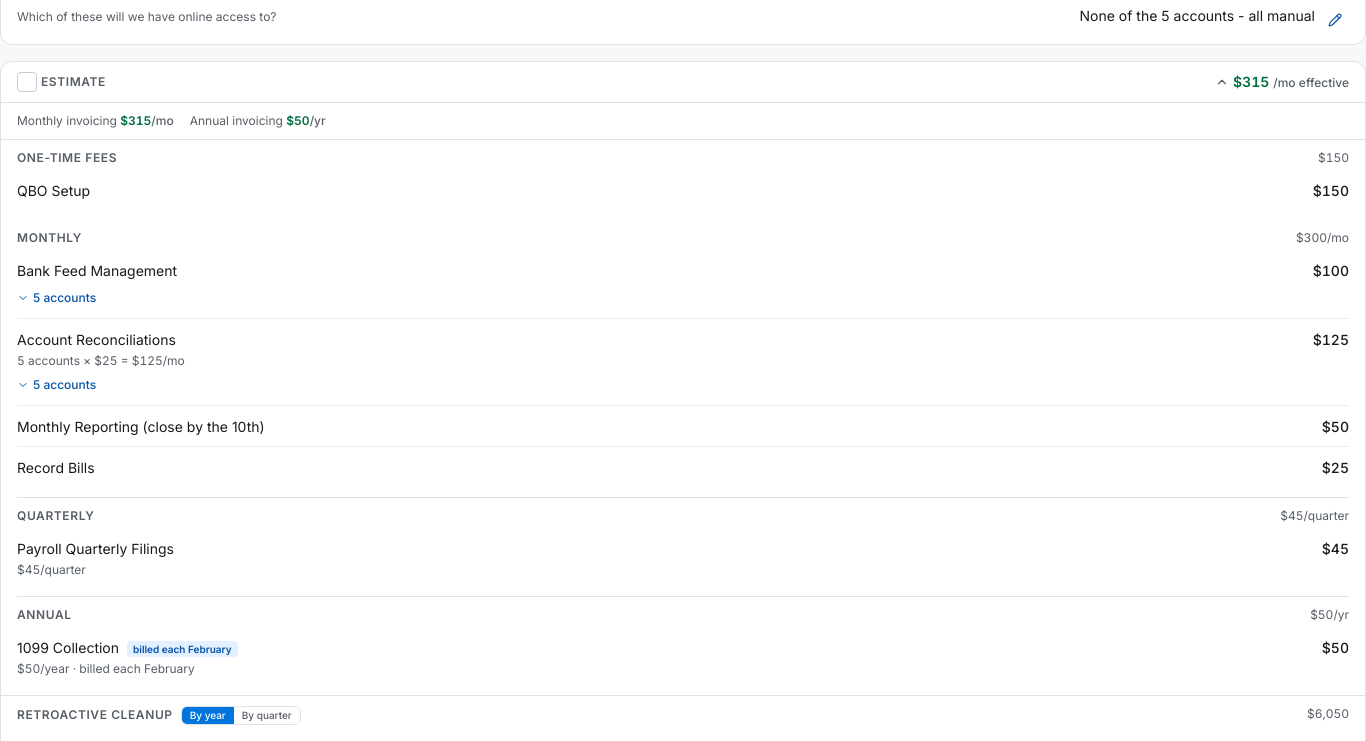
Test: breakdown_shows_accounts_with_count_math (V5) › the reconciliation breakdown lists the actual accounts with 5 x $25 = $125 math
The width and height of the screenshot is (1366, 741).
(page scrolled)
Expected: the text with test id "estimate-math-account_reconciliations" reads "5 accounts × $25 = $125/mo", [17,352,185,368]
Click the button with test id "breakdown-toggle-account_reconciliations" at {"x": 57, "y": 384}, box [17,376,96,392]
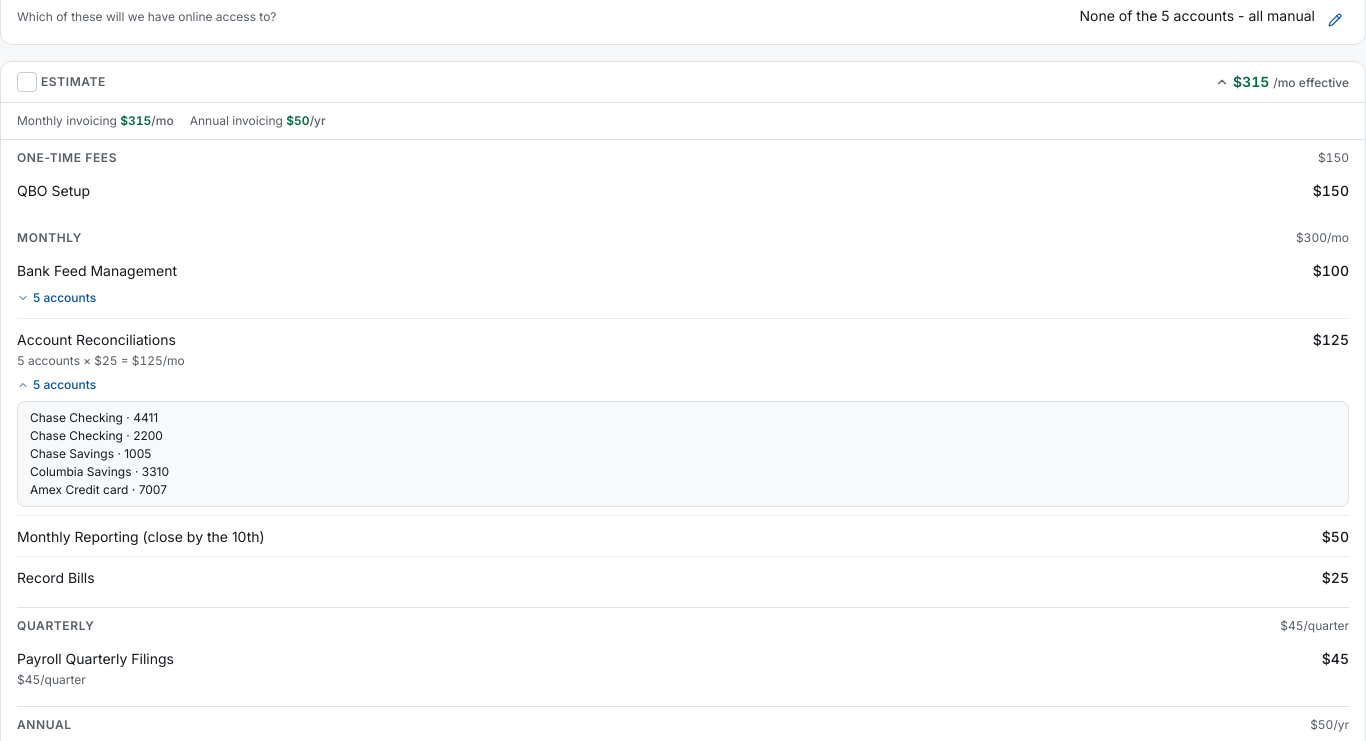
Expected: the button with test id "breakdown-toggle-account_reconciliations" is expanded, [17,376,96,392]
Expected: the number of list items with test id "breakdown-account" is 5, [30,410,158,424]; [30,428,163,442]; [30,446,151,460]; [30,464,169,478]; [30,482,167,496]
Expected: the list with test id "breakdown-account_reconciliations" shows "Chase Checking · 4411", [30,410,158,424]
